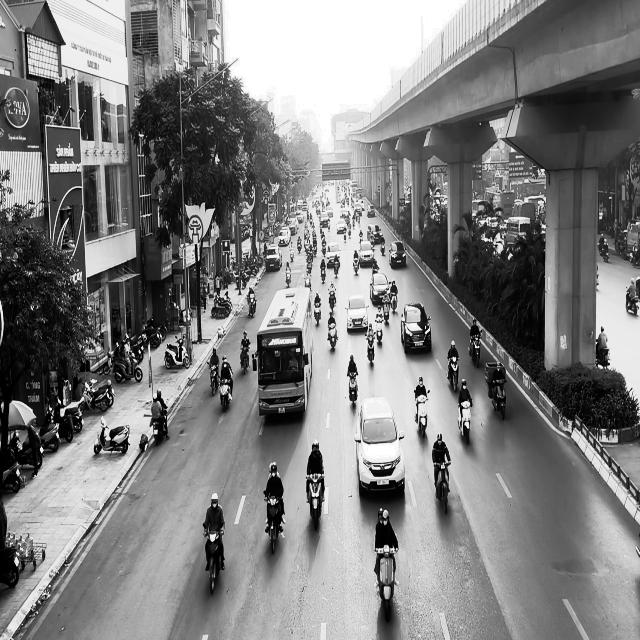bus: (256, 286, 314, 417)
car: (354, 395, 405, 494), (400, 302, 432, 354), (344, 294, 368, 332), (369, 273, 390, 304), (389, 240, 406, 268), (325, 242, 340, 267)
motorbike: (374, 544, 398, 622), (203, 524, 224, 594), (93, 416, 130, 454), (263, 491, 283, 554), (306, 472, 324, 530), (432, 458, 450, 514), (413, 389, 430, 438), (457, 398, 473, 444), (489, 378, 506, 420), (151, 409, 169, 445), (468, 329, 482, 367), (219, 376, 233, 411), (446, 356, 459, 392), (208, 363, 220, 396), (347, 371, 358, 406), (625, 286, 638, 314), (327, 321, 338, 350), (365, 333, 375, 364), (240, 345, 250, 374), (247, 292, 256, 317), (375, 317, 383, 343), (328, 287, 336, 313), (314, 300, 321, 326), (285, 263, 291, 287)
